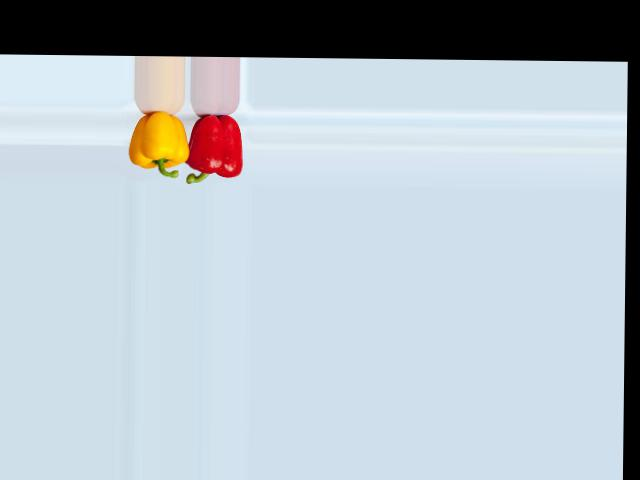bell_pepper: (184, 107, 248, 182)
